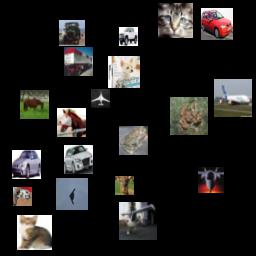airplane: (214, 79, 252, 117), (119, 202, 157, 240), (56, 178, 88, 210), (198, 167, 224, 193), (91, 89, 110, 108)
automobile: (201, 8, 233, 40), (12, 150, 41, 179), (64, 145, 93, 174), (119, 27, 138, 46)
cat: (158, 3, 193, 38), (17, 215, 52, 250), (13, 187, 32, 206)
deer: (115, 176, 134, 195)
dog: (108, 56, 140, 88)
frog: (170, 97, 208, 135), (119, 126, 148, 155)
truck: (64, 47, 93, 76), (59, 20, 85, 46)
